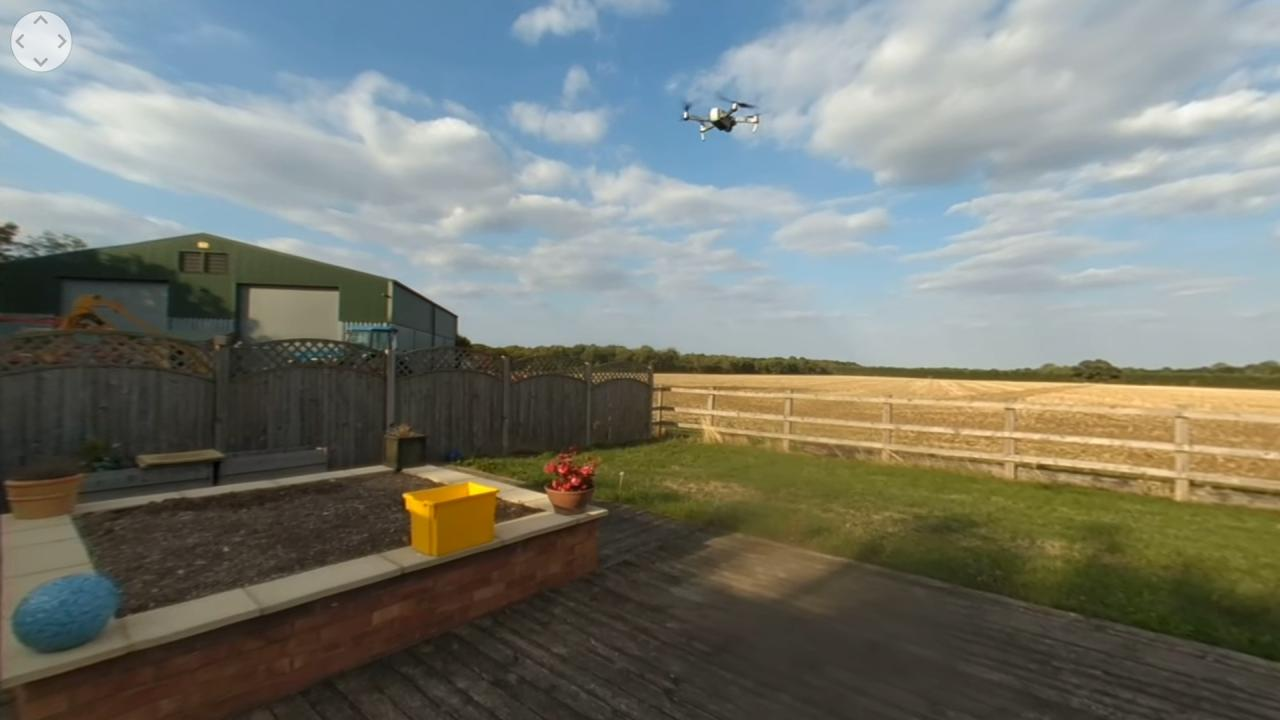Drone: (670, 88, 774, 148)
